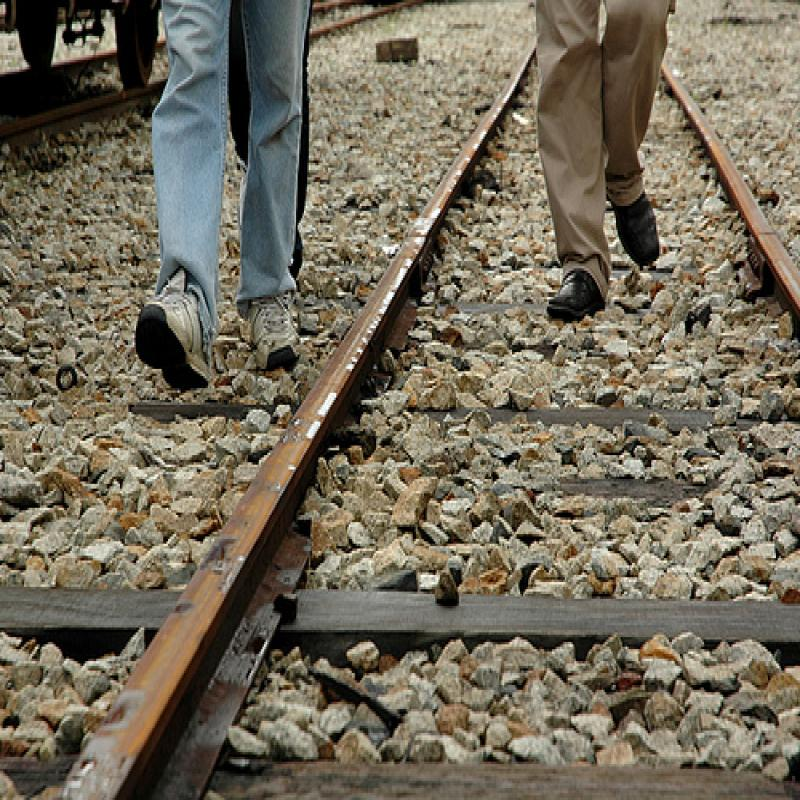train: (3, 3, 156, 92)
